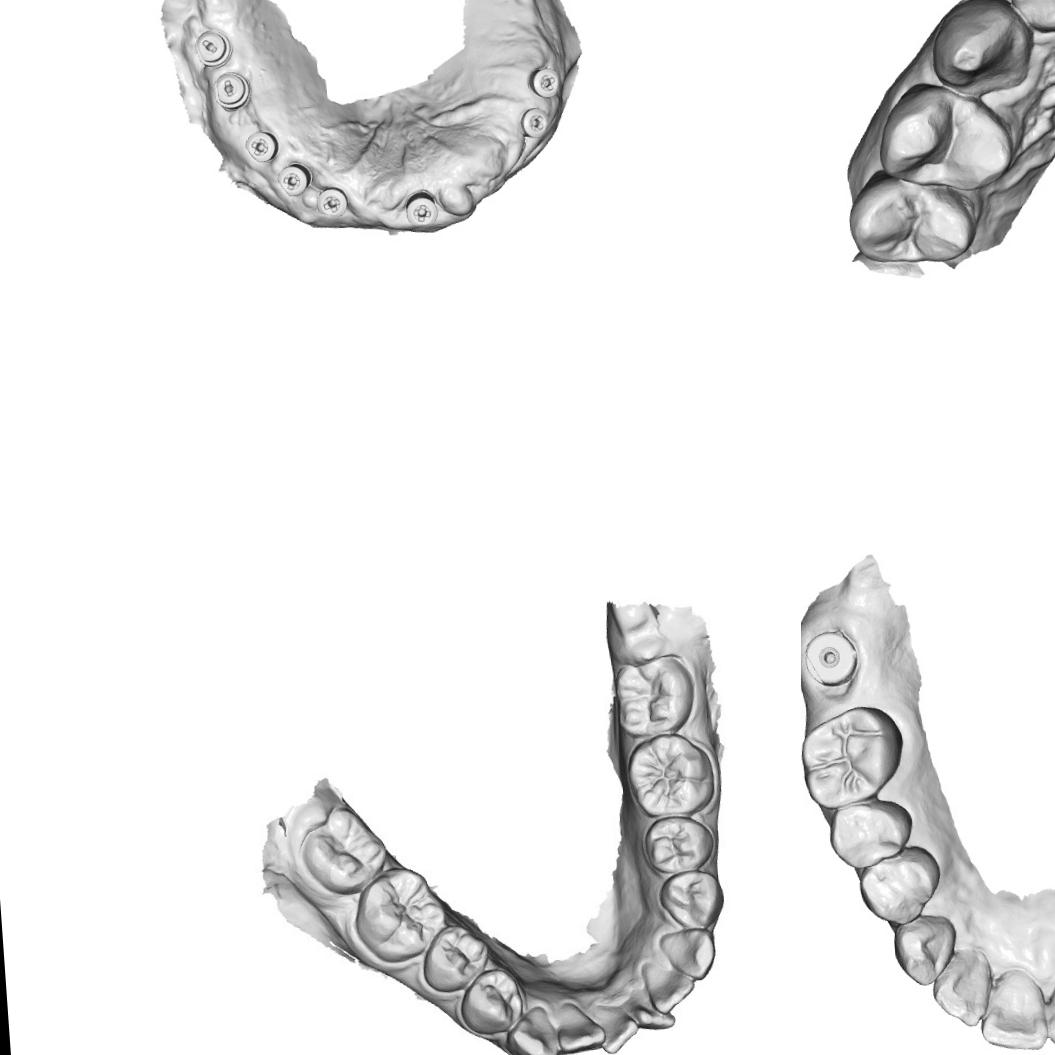canine: (925, 0, 1034, 98), (890, 913, 962, 989), (662, 926, 722, 978), (509, 1004, 559, 1055)
implant: (801, 626, 861, 687)
implant_minus: (212, 70, 252, 112), (192, 28, 234, 68)
implant_plus: (402, 188, 440, 230), (274, 161, 313, 198), (242, 128, 281, 164), (313, 184, 349, 220), (526, 65, 562, 100), (518, 104, 552, 140)
incisor: (975, 966, 1046, 1054), (928, 951, 996, 1032), (553, 994, 603, 1052), (642, 958, 692, 1010), (628, 984, 674, 1036), (596, 1001, 639, 1052), (1004, 0, 1055, 35), (1039, 966, 1055, 1049)
molar: (801, 701, 909, 811), (354, 860, 441, 962), (300, 808, 385, 897), (628, 735, 713, 819), (610, 656, 688, 732)
premolar: (872, 74, 1014, 196), (844, 168, 974, 269), (854, 846, 945, 929), (824, 795, 916, 872), (642, 812, 712, 876), (422, 925, 486, 992), (462, 968, 520, 1032), (660, 870, 720, 926)
